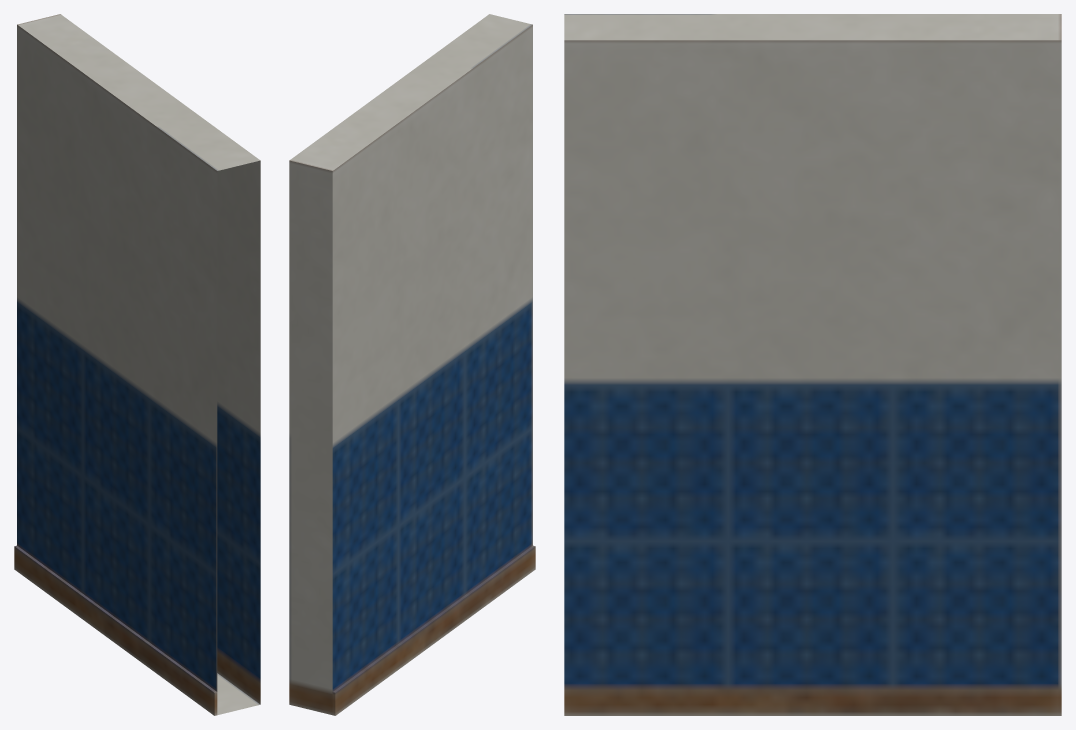
Rendered from SM_Wall_Kitchen_01.fbx.
The picture shows the model from 3 angles, left to right: view 1: azimuth 30°, elevation 25°; view 2: azimuth 150°, elevation 25°; view 3: azimuth 270°, elevation 25°; orthographic projection. The views are drawn at different scales.
Visible parts, largest first — view 1: SM_Wall_Kitchen_01; view 2: SM_Wall_Kitchen_01; view 3: SM_Wall_Kitchen_01.
Part boxes in pixels (x1,y1,x2,y2): SM_Wall_Kitchen_01: (14, 14, 260, 715); SM_Wall_Kitchen_01: (289, 14, 535, 715); SM_Wall_Kitchen_01: (564, 14, 1061, 715).
Size of the model in its own units: 26.61 by 300 by 200.
